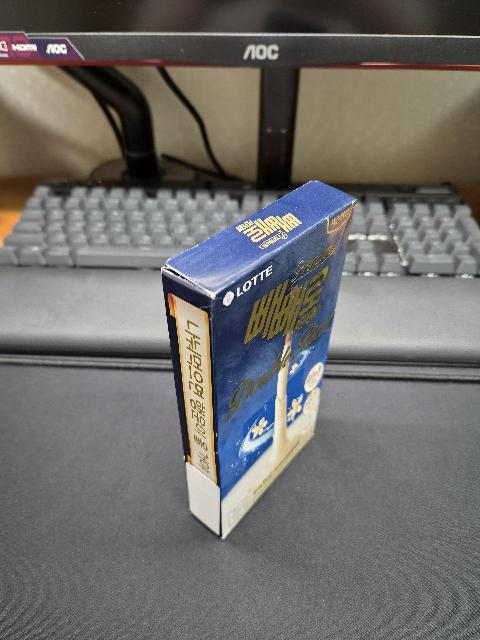pepero: (160, 180, 358, 540)
